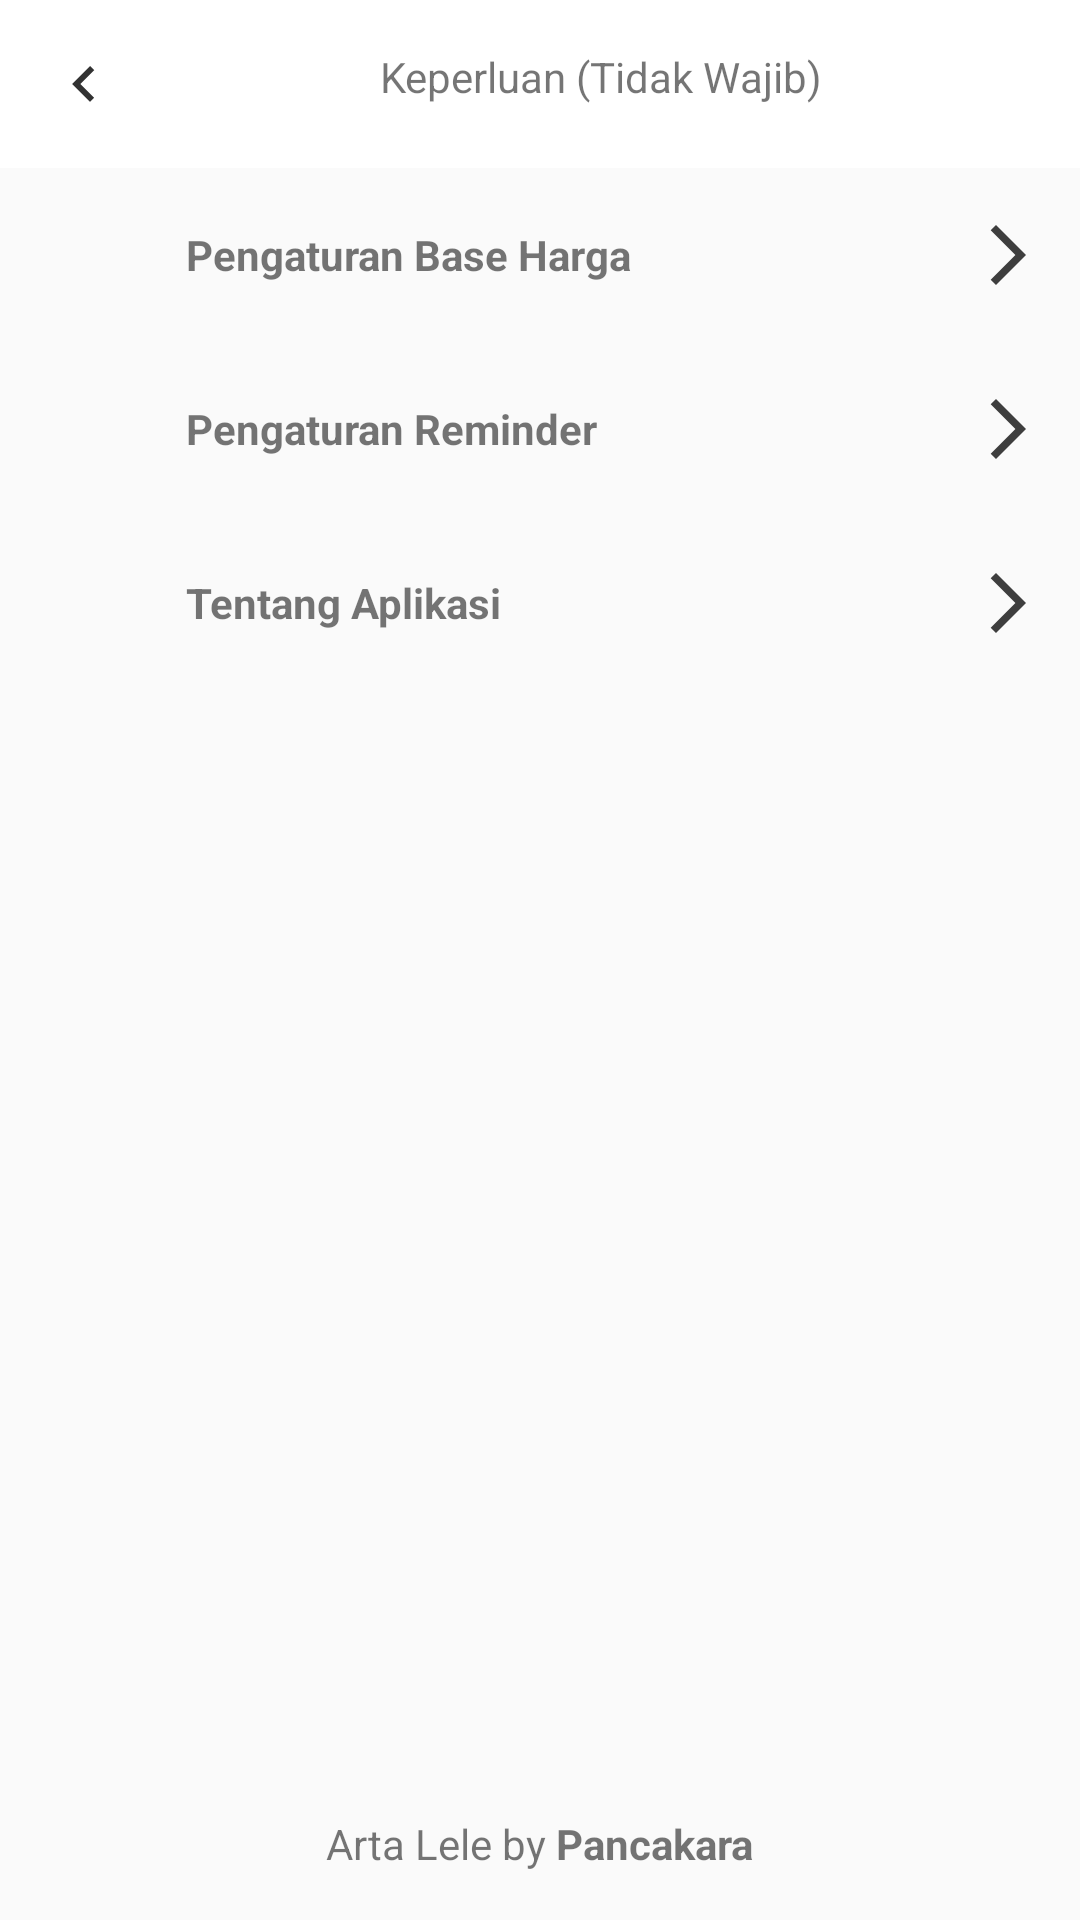

Icons on this 1080 × 1920 Android screen, each with the point to tap as (x,y):
arrow forward: (1008,255), (1008,429), (1008,603)
back arrow: (83,84)
